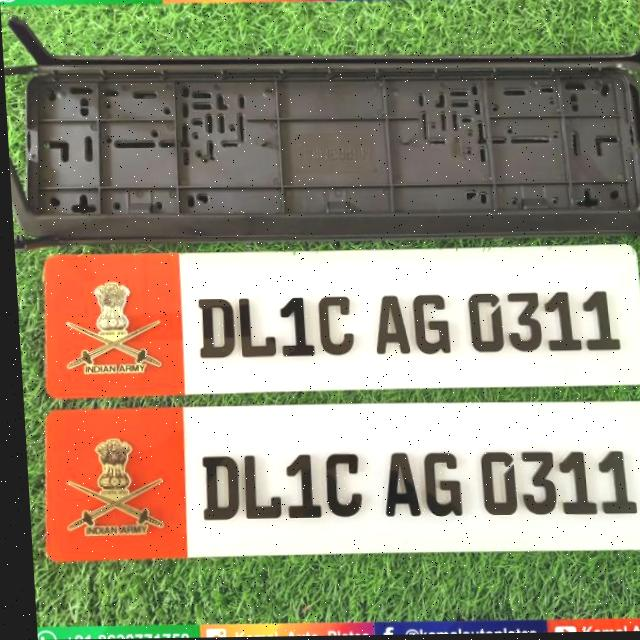plate: (32, 403, 640, 563), (37, 246, 640, 400)
